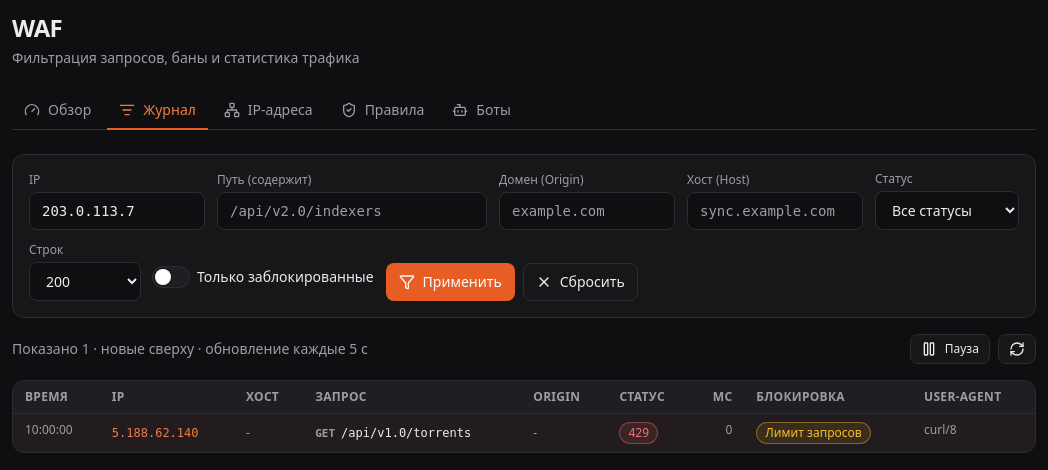
Scenario: WAF log filters › builds the query from URL filters and controls
Expected: the text "Лимит запросов" is shown, [756,422,871,444]
Select "4xx" in the dropdown labelled "Статус" at (947, 210), box [875,191,1019,230]
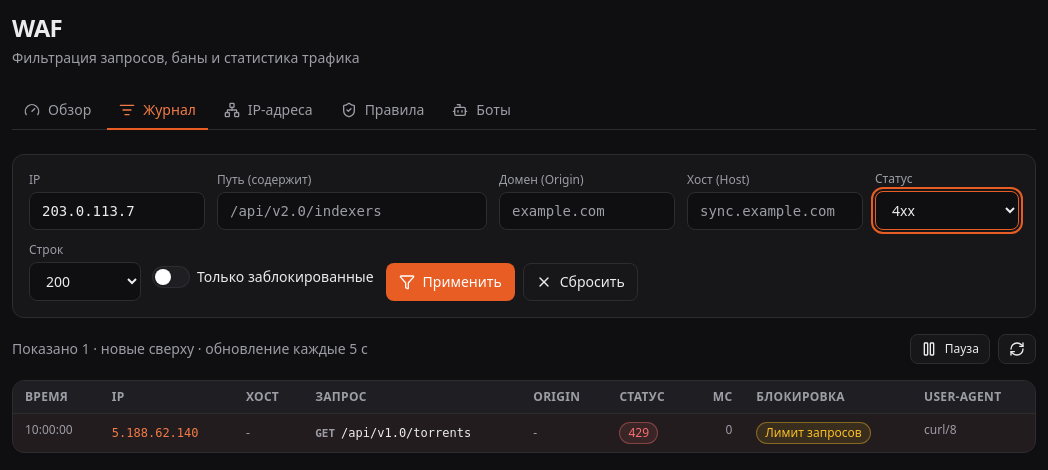
Click the checkbox labelled "Только заблокированные" at (263, 277), box [153,267,374,287]
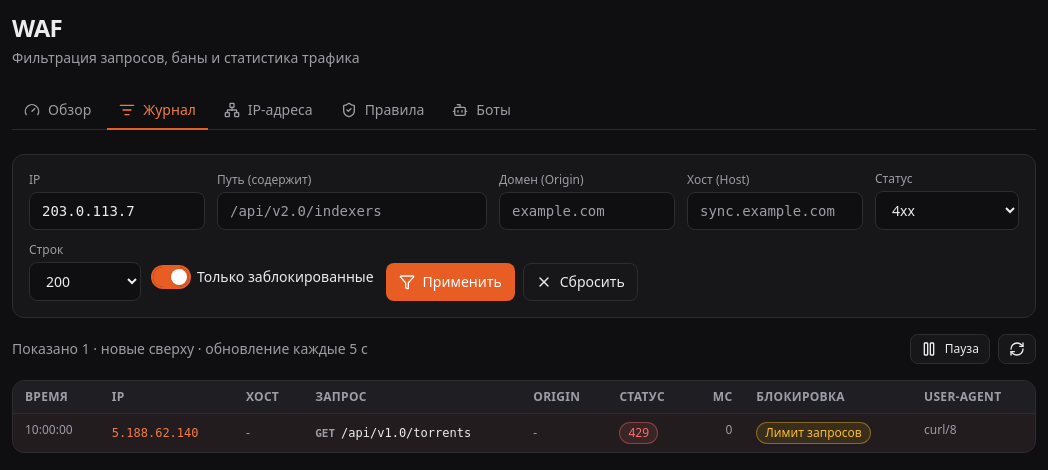
Type "/api" into the field labelled "Путь (содержит)" at (352, 211), box [217,192,487,230]
Then press Enter
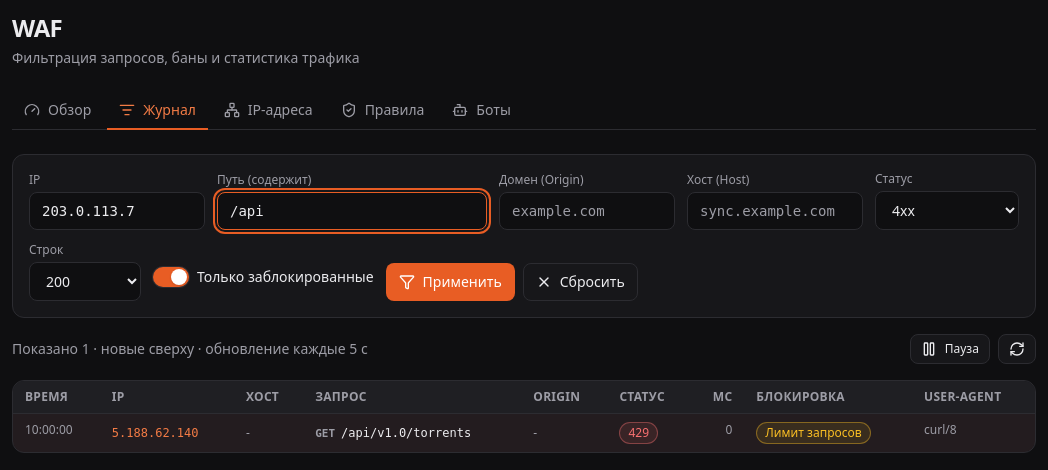
Note: Clicking an IP in the log switches the IP filter.
Click the button "5.188.62.140" at (155, 433), box [112,425,198,441]
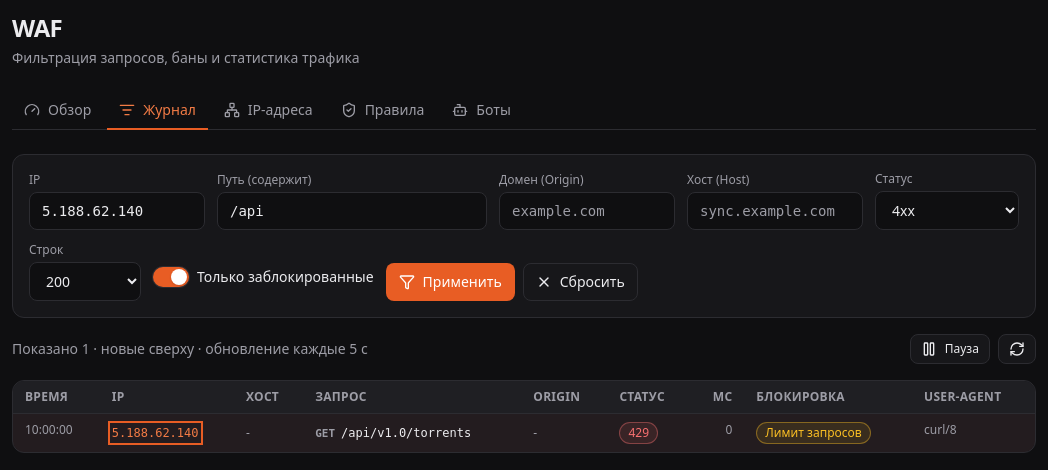
Expected: the field labelled "IP" holds "5.188.62.140", [29,192,205,230]
